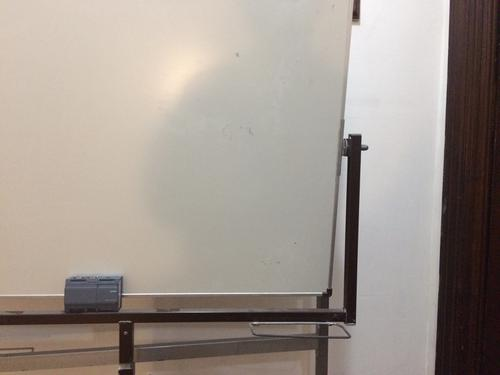iot2000: (64, 275, 124, 315)
